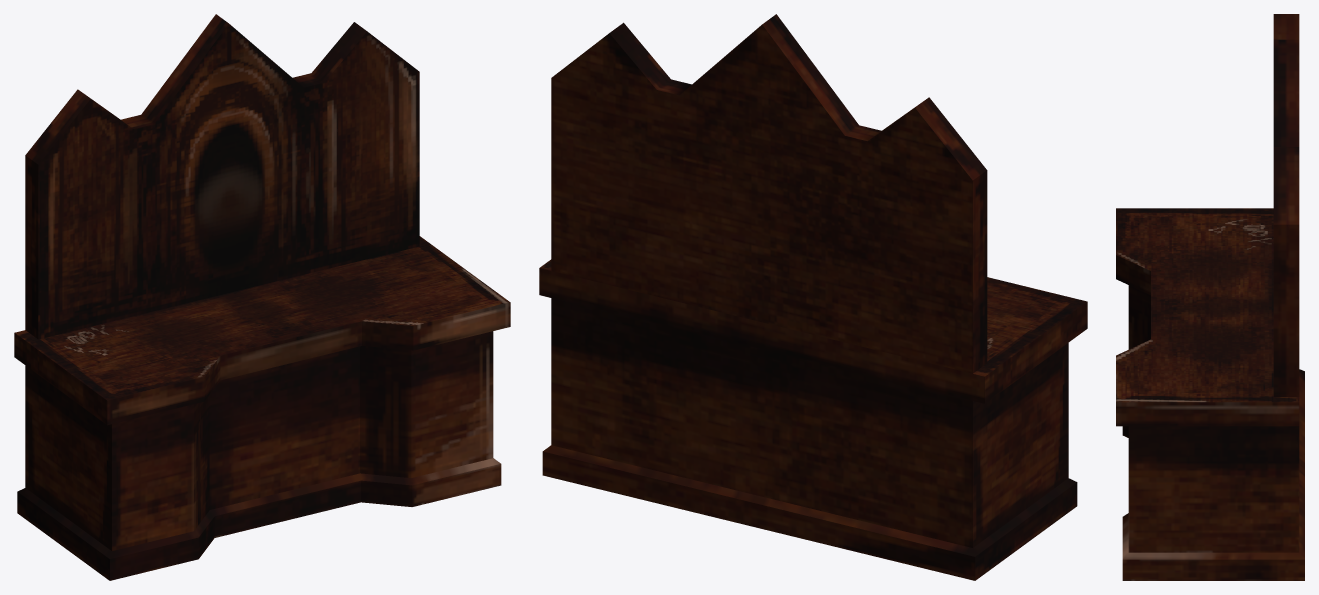
The model's file is chapelaltar1.glb.
The picture shows the model from 3 angles, left to right: view 1: azimuth 30°, elevation 25°; view 2: azimuth 150°, elevation 25°; view 3: azimuth 270°, elevation 25°; orthographic projection. The views are drawn at different scales.
Parts seen in each view (by area): view 1: altarzao_geo; view 2: altarzao_geo; view 3: altarzao_geo.
Part boxes in pixels (bbox=[...]): altarzao_geo: bbox=[14, 14, 510, 580]; altarzao_geo: bbox=[539, 14, 1087, 580]; altarzao_geo: bbox=[1116, 14, 1304, 580].
Bounding box in the file's own units: 3.13 × 3.37 × 1.29.
Materials: 1 (1 with a texture image).
